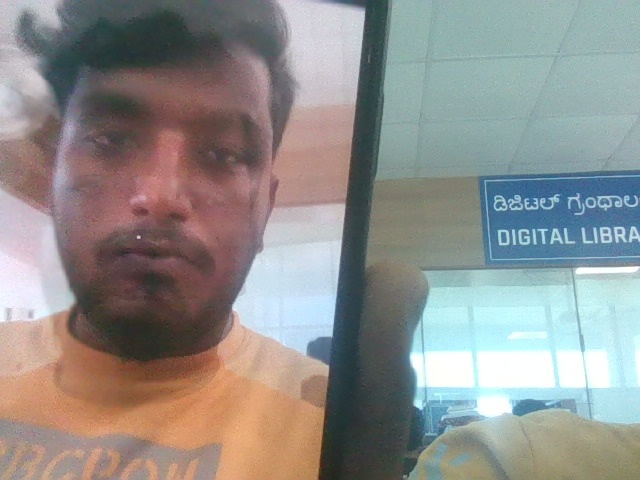fake: (13, 0, 302, 409)
